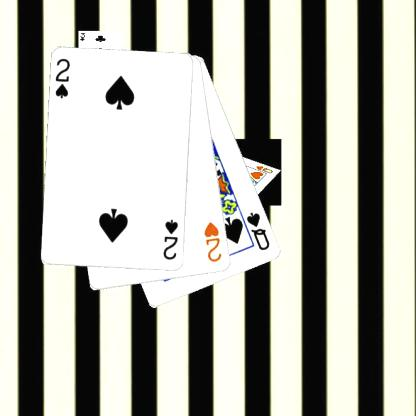2H: (202, 219, 224, 264)
2S: (160, 217, 180, 261), (52, 56, 72, 100)
QS: (244, 209, 271, 252)
